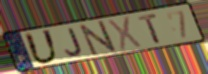7: (166, 9, 188, 39)
J: (64, 27, 84, 58)
N: (78, 19, 119, 58)
T: (137, 12, 163, 45)
U: (22, 27, 61, 65)
X: (106, 15, 144, 52)
